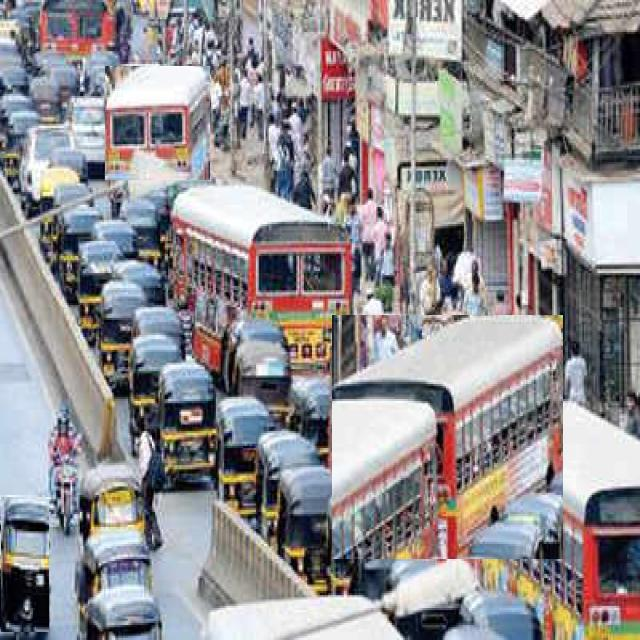autorickshaw: (159, 363, 216, 486), (0, 497, 49, 632), (100, 280, 145, 394)
bus: (332, 315, 562, 559), (458, 400, 640, 638), (171, 185, 351, 372), (105, 66, 210, 180)
